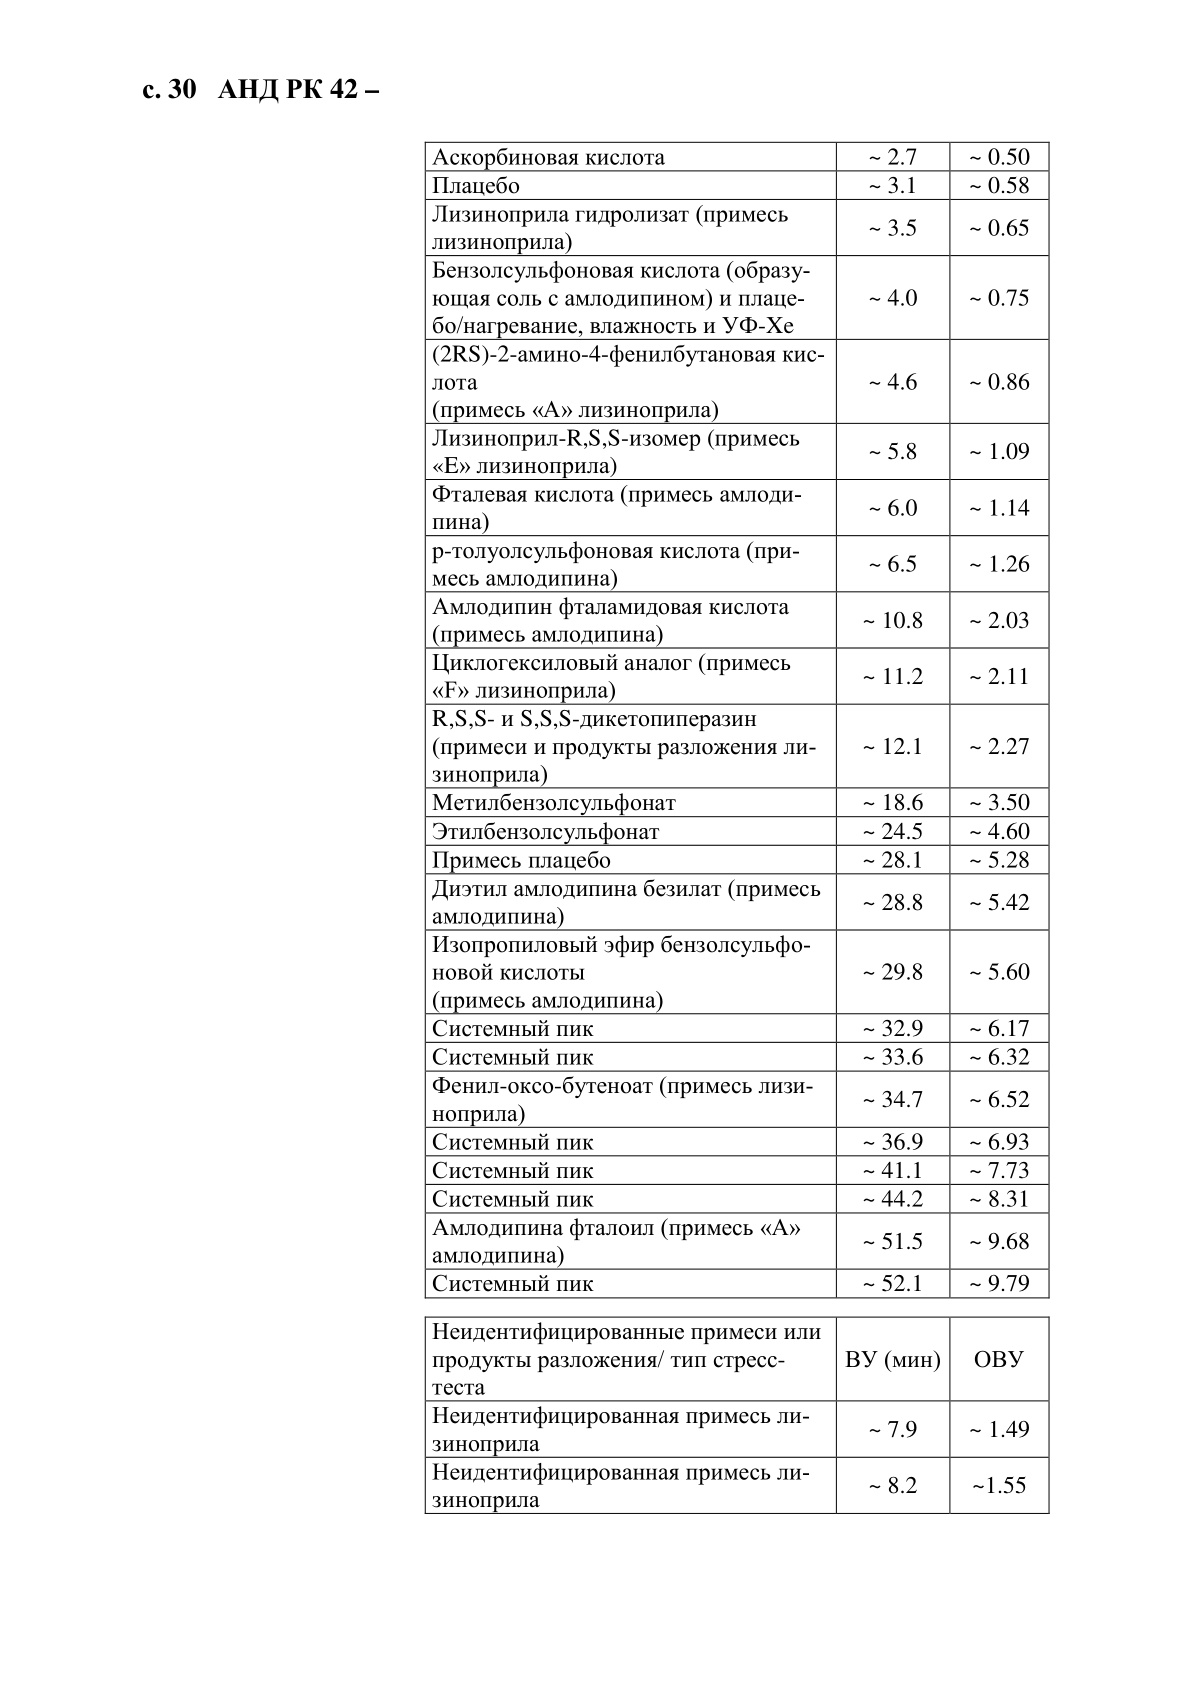full_lined: (423, 140, 1051, 1300), (423, 1316, 1051, 1515)
